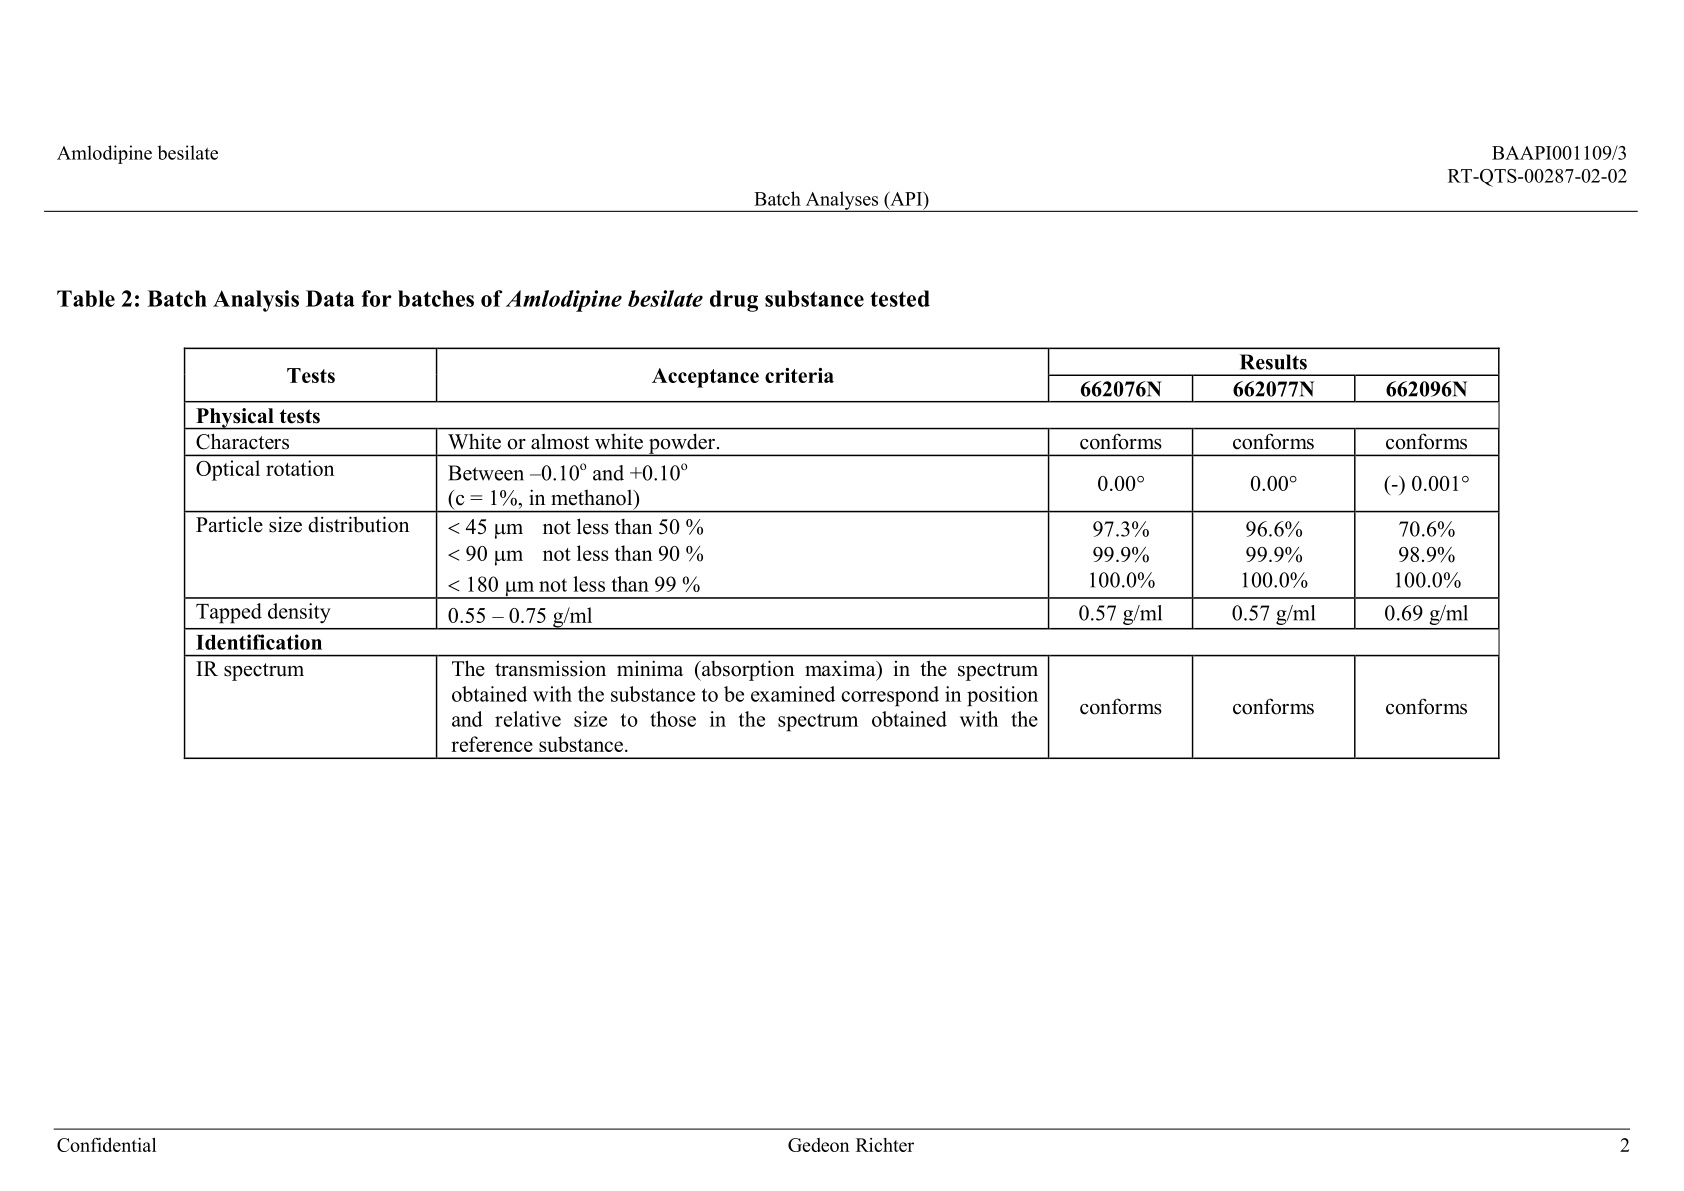merged_cells: (183, 345, 1501, 760)
